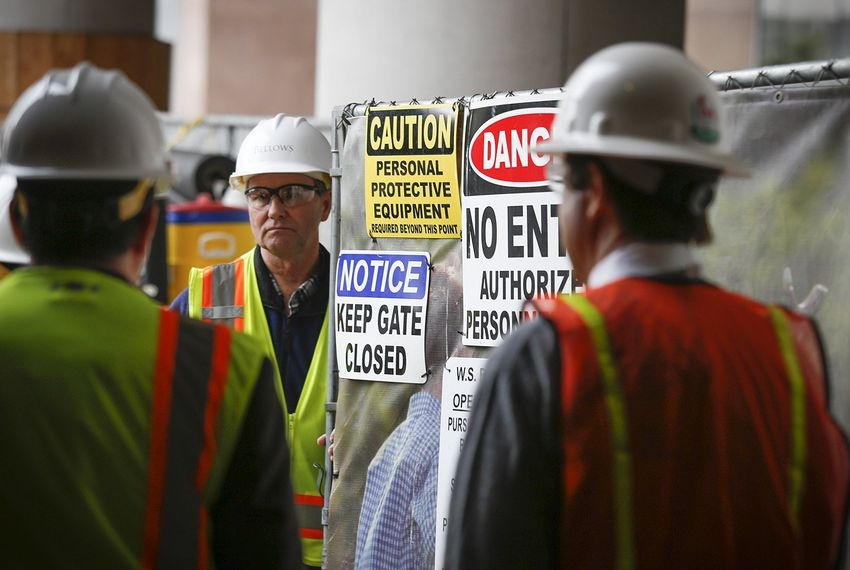white: (555, 40, 727, 263), (5, 66, 167, 266), (235, 114, 334, 258)
